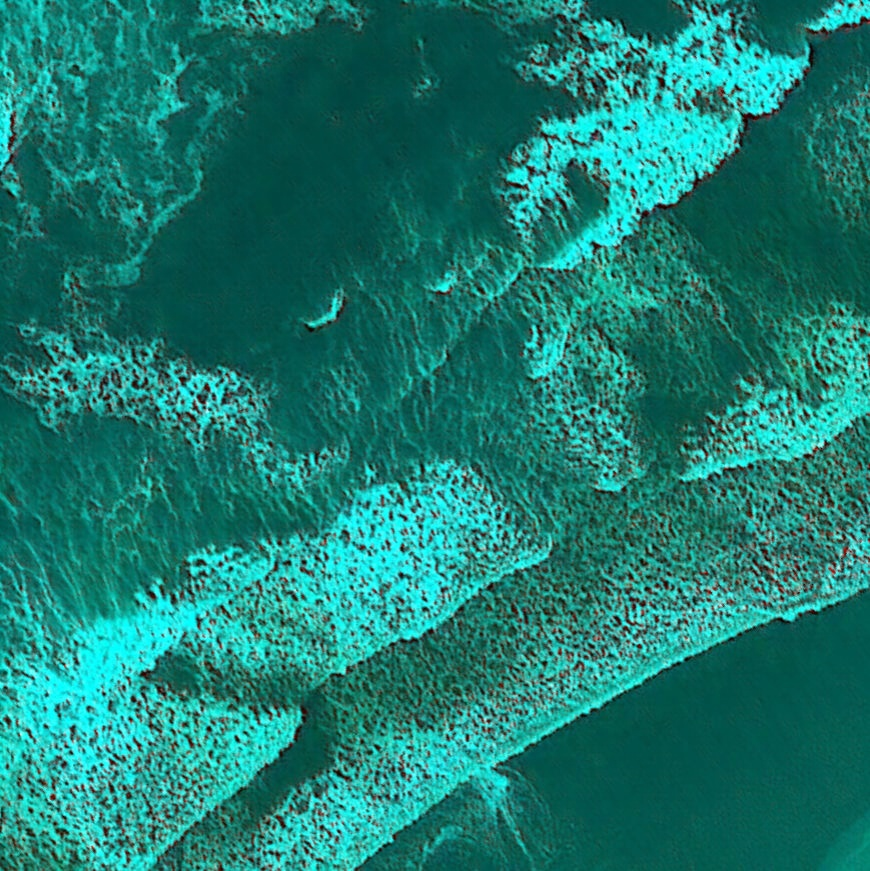rip_current: (352, 283, 683, 604)
